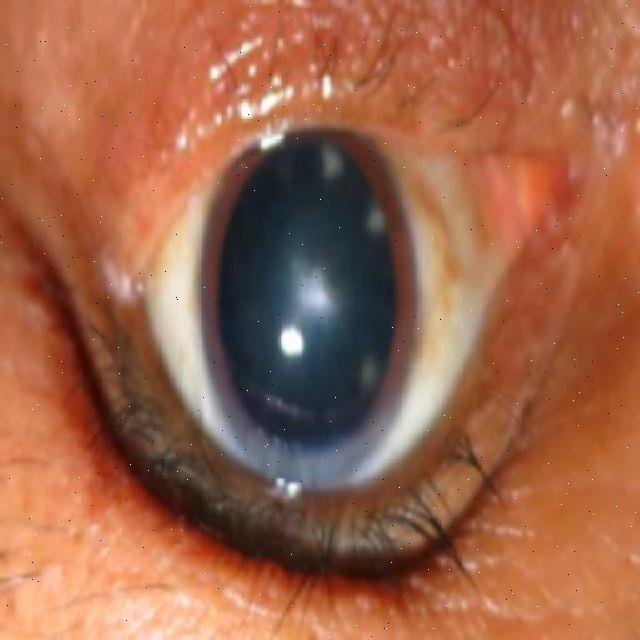Cataract: (194, 103, 418, 484)
